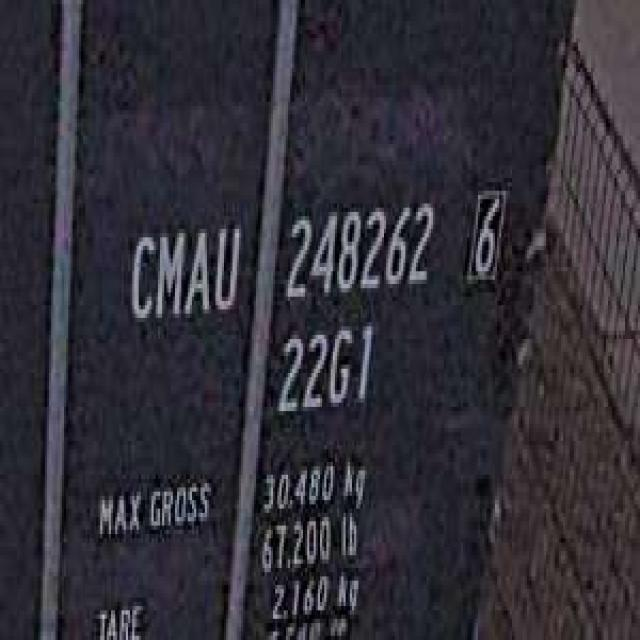dv: (461, 174, 508, 292)
owner: (124, 208, 241, 330)
serial: (280, 191, 438, 305)
size: (271, 314, 375, 424)
